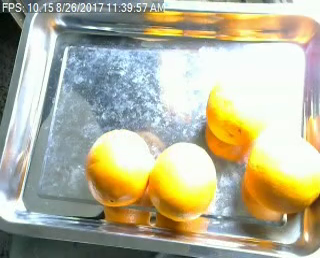Orange: (84, 129, 151, 206)
